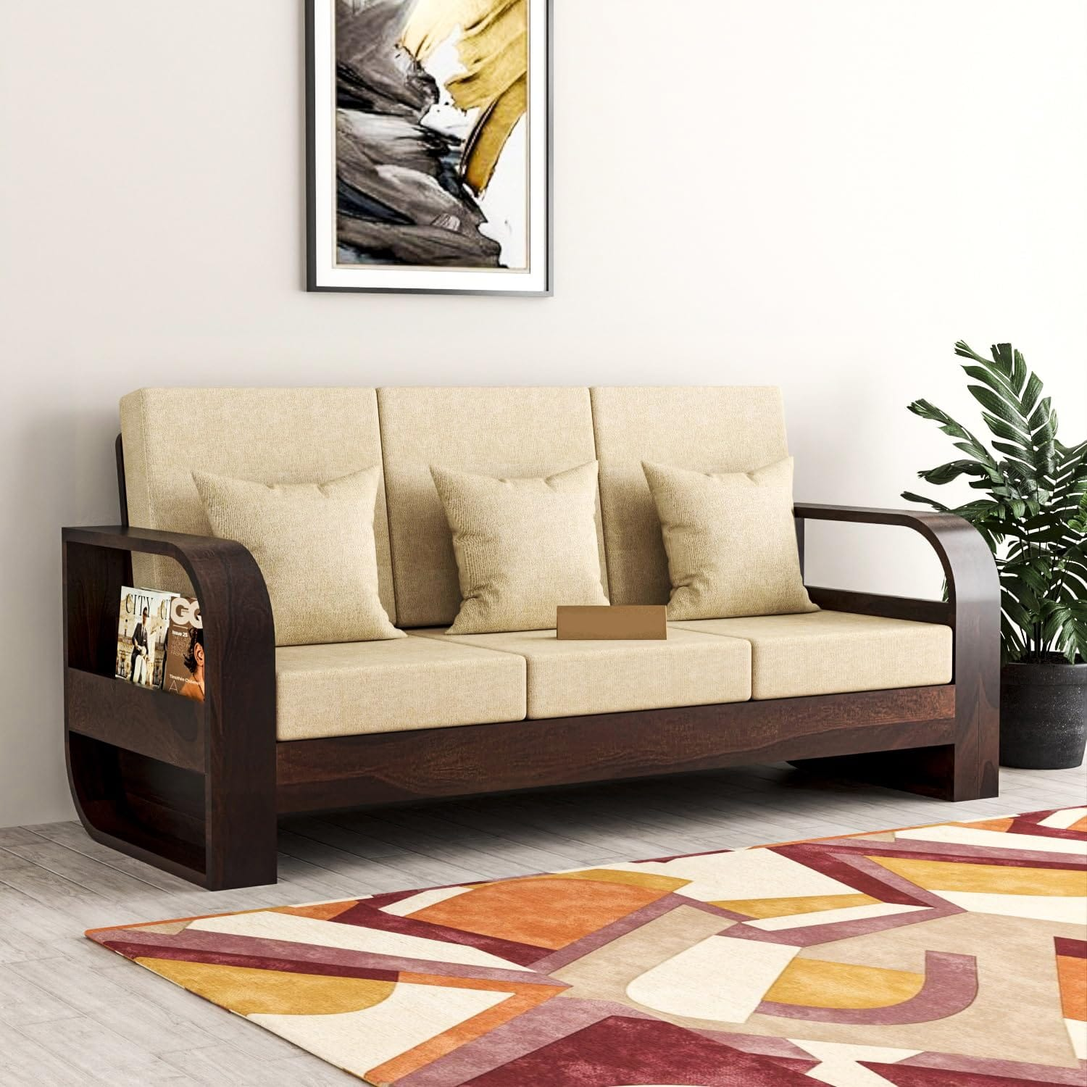3seatersofa: (130, 384, 1009, 796), (63, 524, 853, 887)
backrest: (116, 389, 790, 626)
base: (278, 688, 954, 813)
leftarmrest: (792, 501, 999, 800)
pillow: (191, 466, 405, 644), (428, 459, 609, 634), (642, 458, 817, 621)
rightarmrest: (63, 528, 276, 888)
seat: (276, 611, 951, 741)
